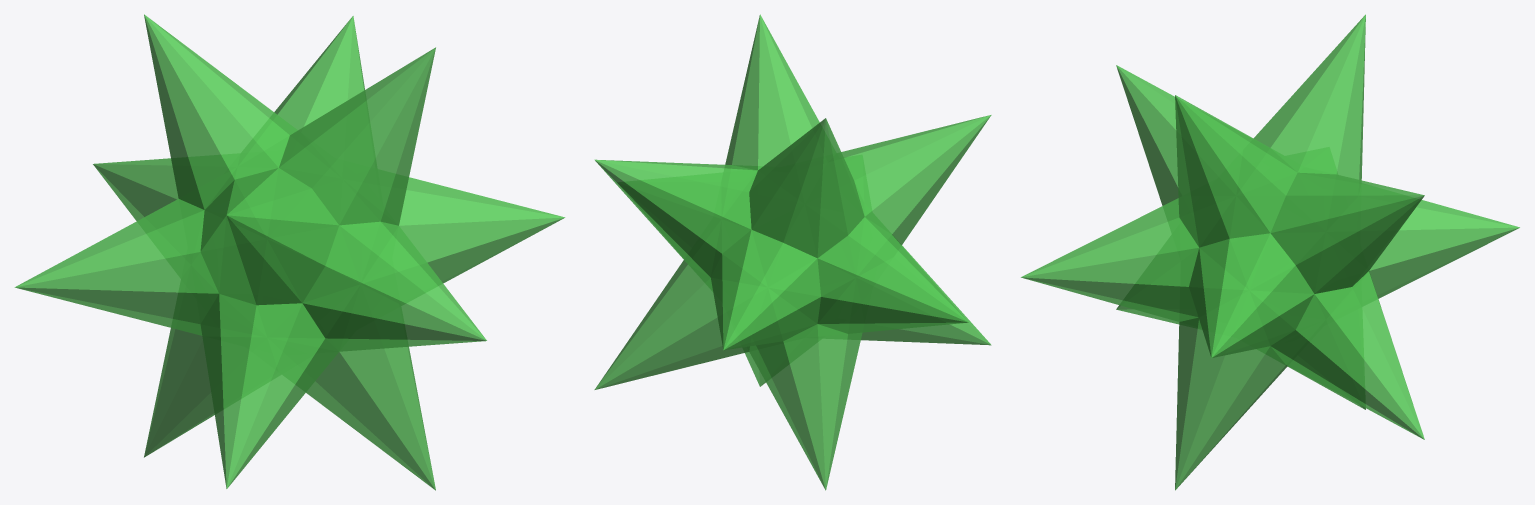
Rendered from fractalsmallditrigonaldodecacronichexecontahedron0.glb.
3 renders of one model, left to right at view 1: azimuth 30°, elevation 25°; view 2: azimuth 150°, elevation 25°; view 3: azimuth 270°, elevation 25°, orthographic. The views are drawn at different scales.
Bounding box in the file's own units: 11.66 × 10.19 × 11.66.
